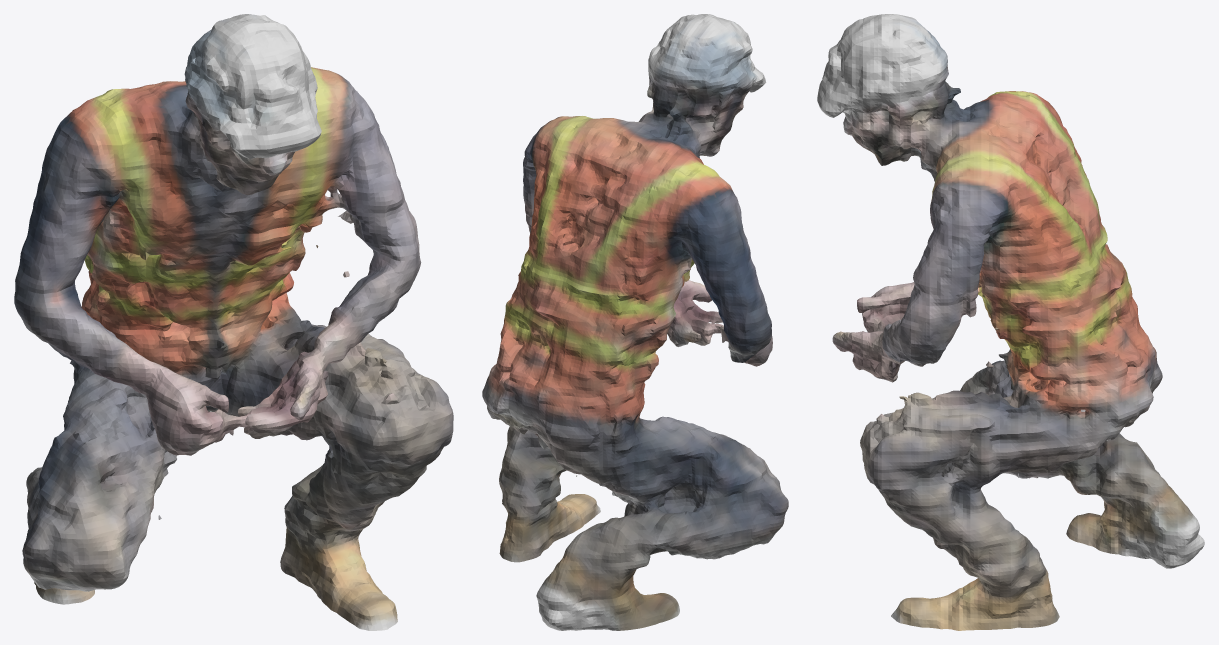
File: standup_0.glb
3 views of the same model, side by side, from view 1: azimuth 30°, elevation 25°; view 2: azimuth 150°, elevation 25°; view 3: azimuth 270°, elevation 25° (orthographic). The views are drawn at different scales.
Visible parts, largest first — view 1: world; view 2: world; view 3: world.
Part boxes in pixels (x1,y1,x2,y2): world: (14,14,453,630); world: (482,14,788,630); world: (817,14,1204,630).
Bounding box in the file's own units: 0.7483 × 1.27 × 0.8214.
